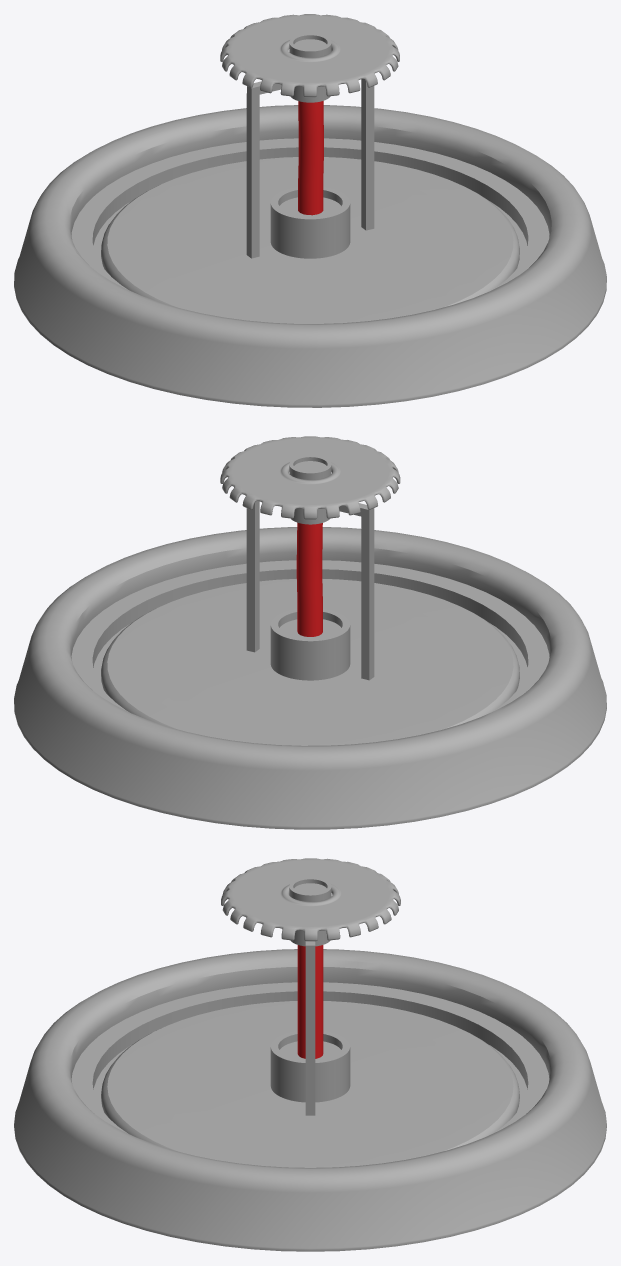
3 renders of one model, top to bottom at view 1: azimuth 30°, elevation 25°; view 2: azimuth 150°, elevation 25°; view 3: azimuth 270°, elevation 25°, orthographic.
Visible parts, largest first — view 1: Sprinkler, Sprinkler.001, Circle.002, Sprinkler.002, Cube.004, Circle.003; view 2: Sprinkler, Sprinkler.001, Circle.002, Sprinkler.002, Cube.004, Circle.003; view 3: Sprinkler, Sprinkler.001, Circle.002, Cube.004, Sprinkler.002, Circle.003.
Boxes of the visible parts, x1,y1,x2,y2 form: Sprinkler: (14, 105, 606, 407); Sprinkler.001: (220, 14, 399, 97); Circle.002: (270, 186, 350, 258); Sprinkler.002: (246, 79, 374, 258); Cube.004: (298, 101, 323, 215); Circle.003: (289, 33, 331, 102); Sprinkler: (14, 527, 606, 829); Sprinkler.001: (220, 436, 400, 519); Circle.002: (270, 608, 350, 680); Sprinkler.002: (246, 501, 374, 680); Cube.004: (296, 522, 322, 636); Circle.003: (289, 455, 331, 524); Sprinkler: (14, 949, 606, 1251); Sprinkler.001: (221, 858, 400, 941); Circle.002: (270, 1030, 350, 1102); Cube.004: (297, 945, 323, 1058); Sprinkler.002: (305, 941, 315, 1115); Circle.003: (289, 877, 331, 946).
Size of the model in its own units: 0.0864 by 0.0386 by 0.0864.
